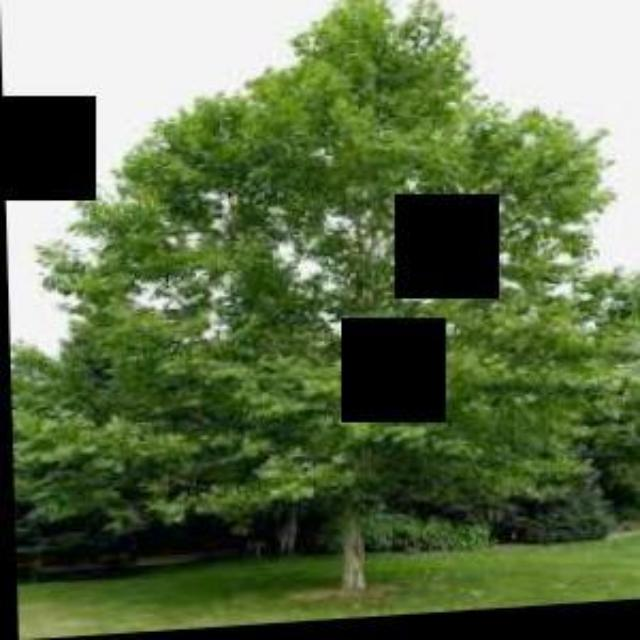tree: (24, 0, 634, 612)
